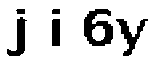6: (82, 7, 115, 49)
i: (48, 5, 68, 49)
j: (3, 6, 30, 60)
y: (115, 15, 150, 60)
